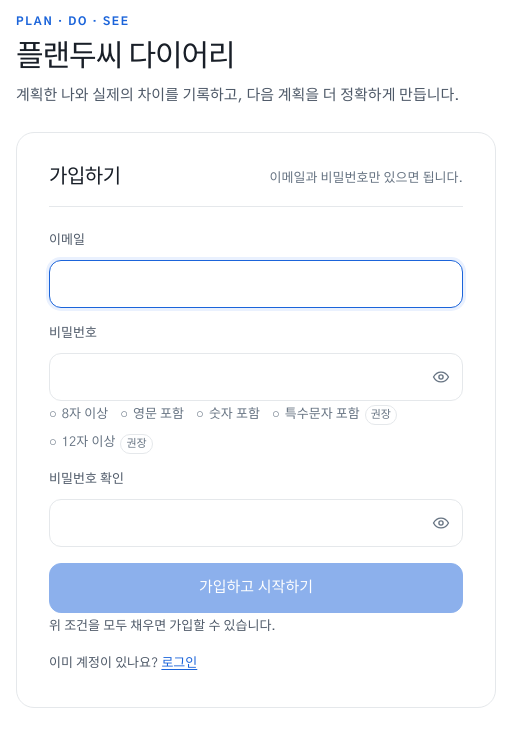
Test: 강도 표시 › 색만이 아니라 글자로 등급을 말한다
The image size is (513, 733).
Type "12345678" into the password field labelled "비밀번호" at (256, 377), box 49,353 -> 463,401
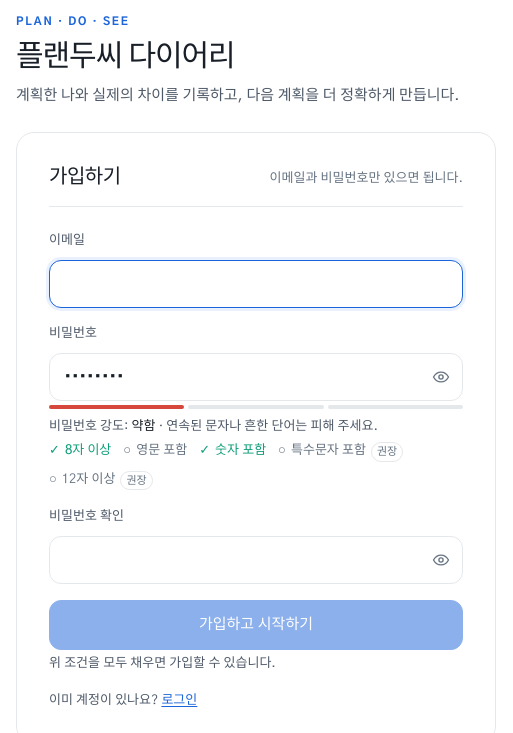
Now the text "비밀번호 강도: 약함 · 연속된 문자나 흔한 단어는 피해 주세요." is shown, box 49,420 -> 378,433
Type "Hello2026" into the password field labelled "비밀번호" at (256, 377), box 49,353 -> 463,401
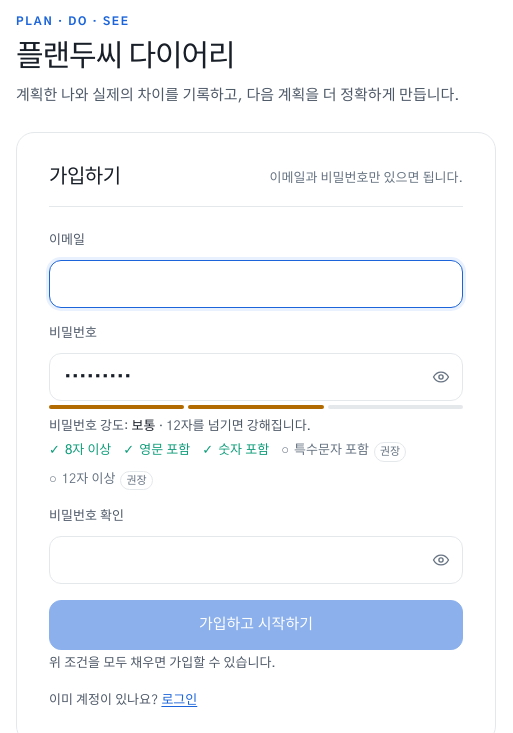
Now the text "비밀번호 강도: 보통 · 12자를 넘기면 강해집니다." is shown, box 49,420 -> 311,433
Type "Diary!Cloud2026" into the password field labelled "비밀번호" at (256, 377), box 49,353 -> 463,401
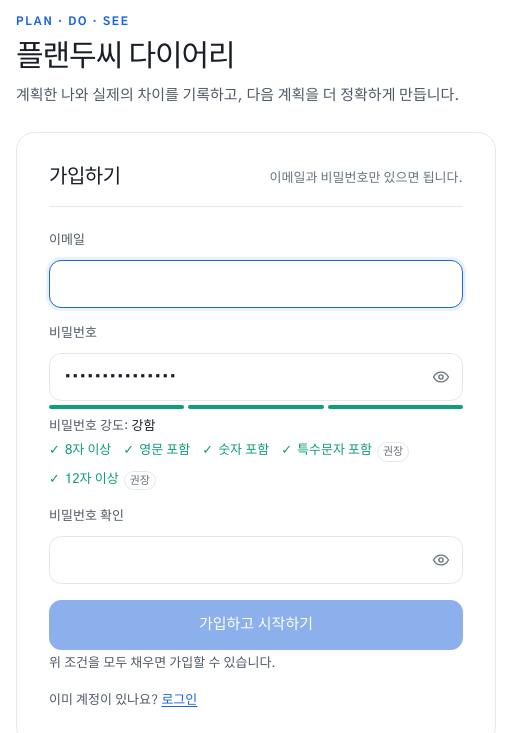
Now the text "비밀번호 강도: 강함" is shown, box 49,420 -> 156,433
